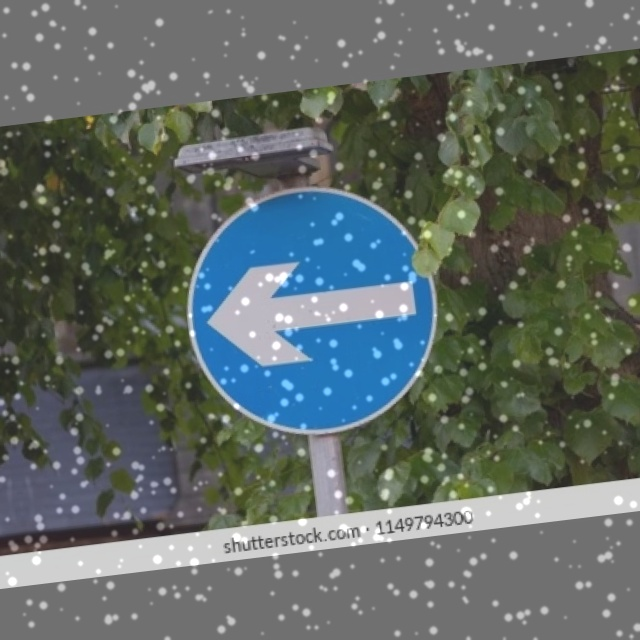Compulsory_Turn_Left: (177, 169, 449, 449)
